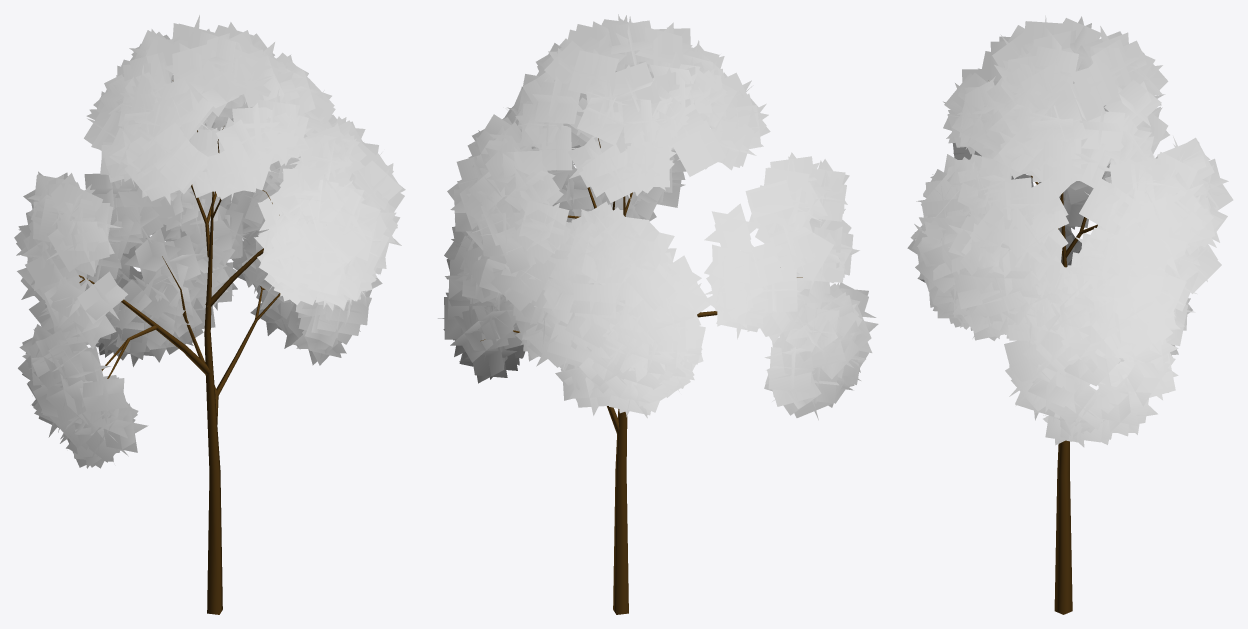
Rendered from Tree 1.fbx.
3 views of the same model, side by side, from view 1: azimuth 30°, elevation 25°; view 2: azimuth 150°, elevation 25°; view 3: azimuth 270°, elevation 25° (orthographic).
Visible parts, largest first — view 1: Leaves, Trunk; view 2: Leaves, Trunk; view 3: Leaves, Trunk.
Boxes of the visible parts, x1,y1,x2,y2 form: Leaves: (14,15,405,468); Trunk: (79,80,280,614); Leaves: (438,14,878,420); Trunk: (480,138,802,614); Leaves: (907,15,1233,447); Trunk: (1031,175,1097,614).
Bounding box in the file's own units: 471 × 710 × 363.
